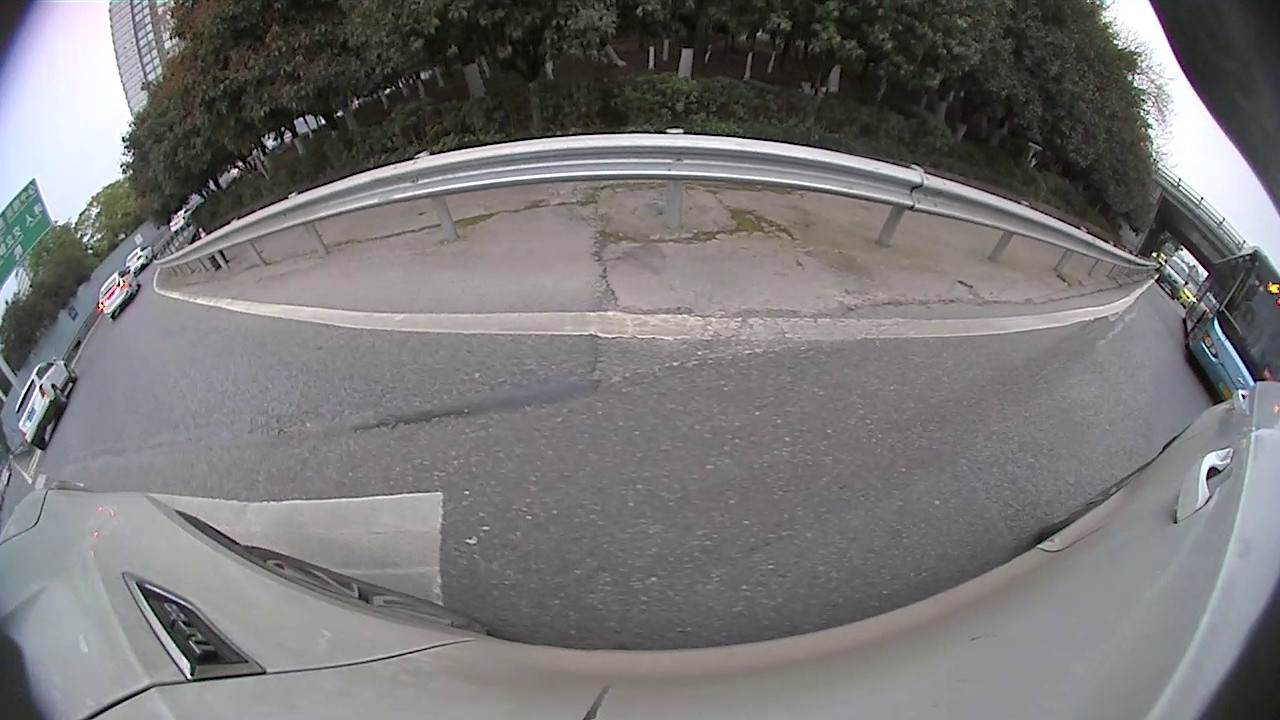bus: (1084, 188, 1212, 351)
car: (877, 104, 1029, 227), (70, 217, 163, 305), (1192, 366, 1233, 424), (1223, 425, 1255, 465)
front: (92, 277, 115, 300)
rear: (926, 163, 968, 209), (77, 288, 93, 310)
